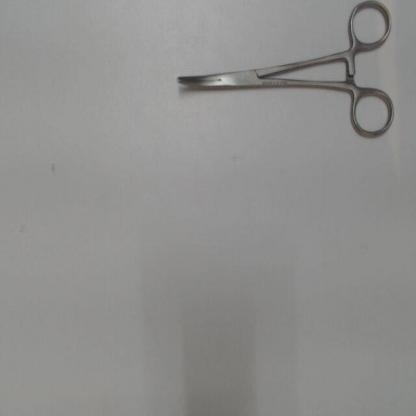Crile Artery Forceps: (166, 1, 403, 152)
